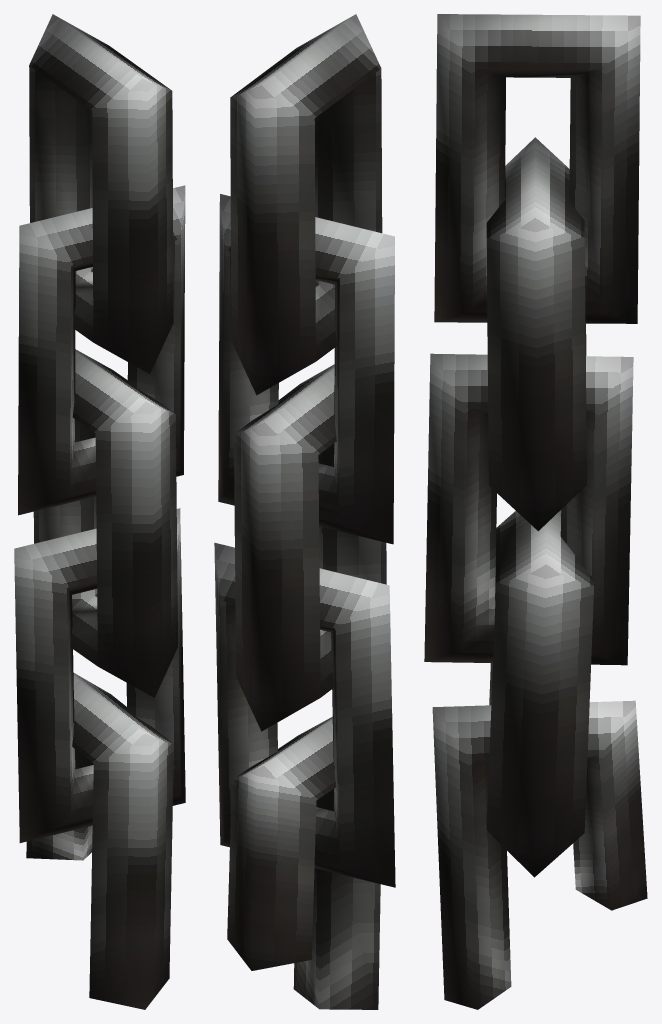
The picture shows the model from 3 angles, left to right: view 1: azimuth 30°, elevation 25°; view 2: azimuth 150°, elevation 25°; view 3: azimuth 270°, elevation 25°; orthographic projection. The views are drawn at different scales.
Parts seen in each view (by area): view 1: xs_wj14; view 2: xs_wj14; view 3: xs_wj14.
Boxes of the visible parts, x1=… form: xs_wj14: x1=14, y1=14, x2=185, y2=1009; xs_wj14: x1=214, y1=14, x2=395, y2=1009; xs_wj14: x1=424, y1=14, x2=647, y2=1009.
Size of the model in its own units: 41.92 by 224 by 46.02.
